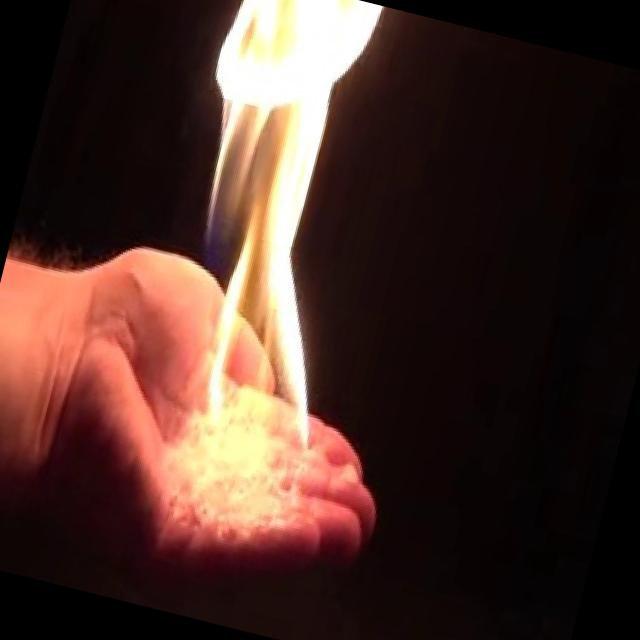Fire: (116, 0, 419, 484)
